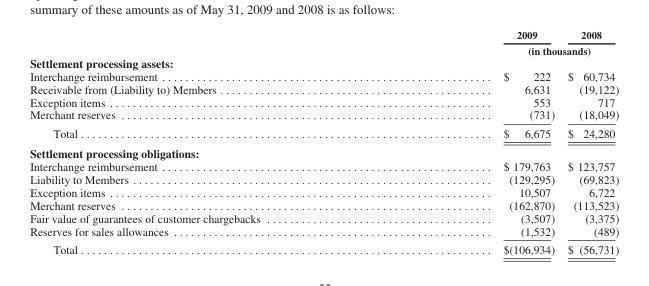table: (29, 28, 618, 255)
table column: (29, 28, 381, 255), (381, 28, 560, 255), (560, 28, 618, 255)
table column header: (29, 28, 618, 56)
table projected row header: (29, 142, 618, 159), (29, 56, 618, 69)
table row: (29, 123, 618, 142), (29, 142, 618, 159), (29, 239, 618, 255), (29, 108, 618, 123), (29, 224, 618, 239), (29, 28, 618, 42), (29, 42, 618, 56), (29, 56, 618, 69), (29, 69, 618, 82), (29, 82, 618, 95), (29, 95, 618, 108), (29, 159, 618, 172), (29, 172, 618, 185), (29, 185, 618, 198), (29, 198, 618, 211), (29, 211, 618, 224)
table spanning cell: (381, 42, 618, 56)
